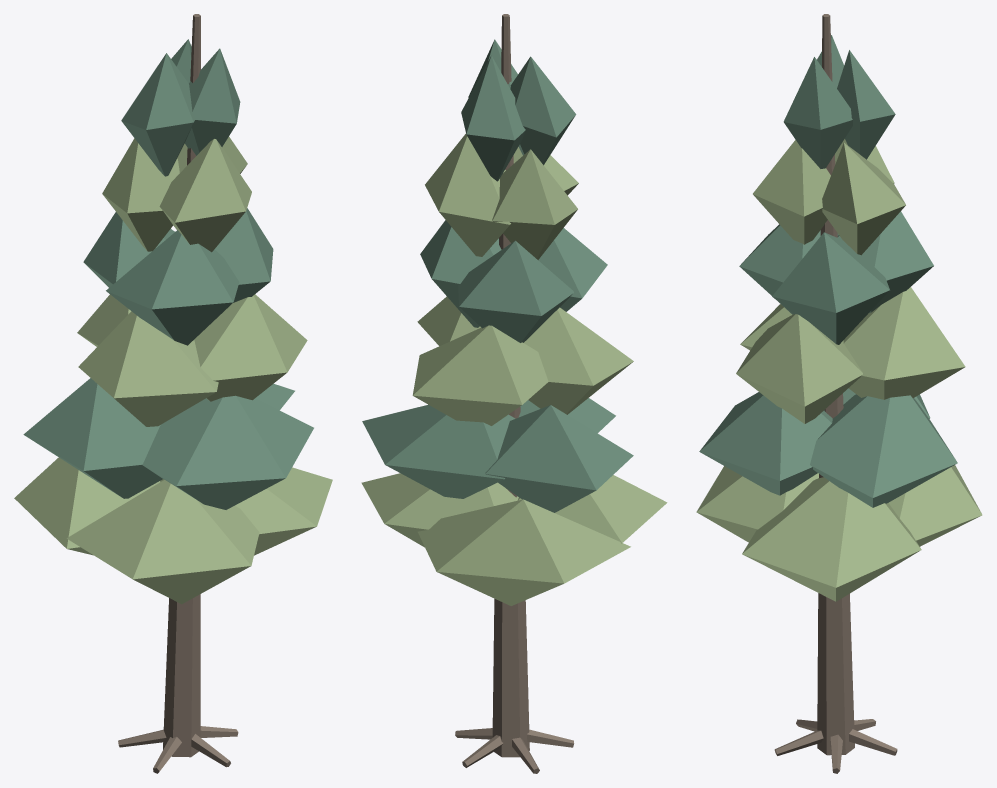
The picture shows the model from 3 angles, left to right: view 1: azimuth 30°, elevation 25°; view 2: azimuth 150°, elevation 25°; view 3: azimuth 270°, elevation 25°; orthographic projection.
Bounding box in the file's own units: 8.01 × 20.61 × 7.25.
